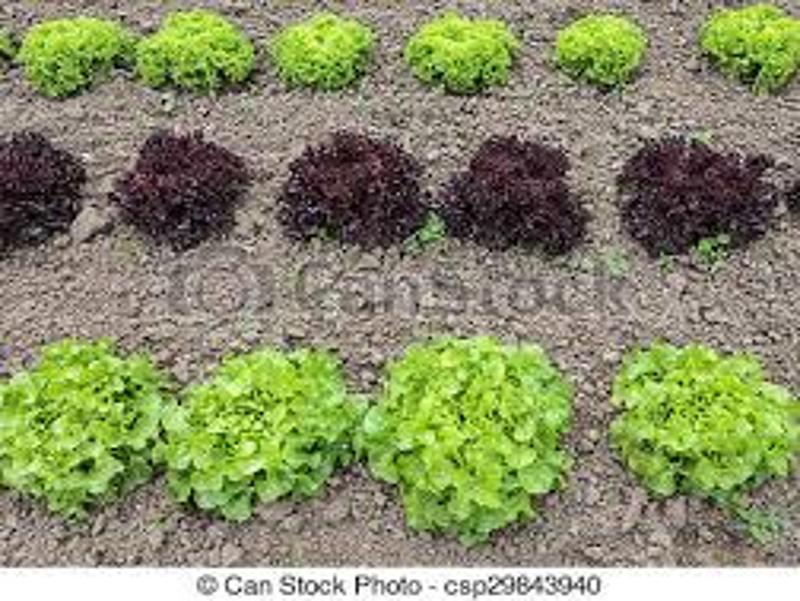green lettuce: (362, 335, 578, 541), (175, 351, 368, 520), (4, 346, 171, 522), (614, 347, 797, 502), (412, 12, 523, 88), (145, 12, 257, 85), (706, 4, 800, 86), (22, 20, 130, 89), (280, 10, 368, 85), (563, 14, 649, 85)
red lettuce: (619, 138, 779, 256), (109, 125, 255, 250), (292, 130, 433, 243), (453, 136, 587, 251), (3, 130, 83, 252)
